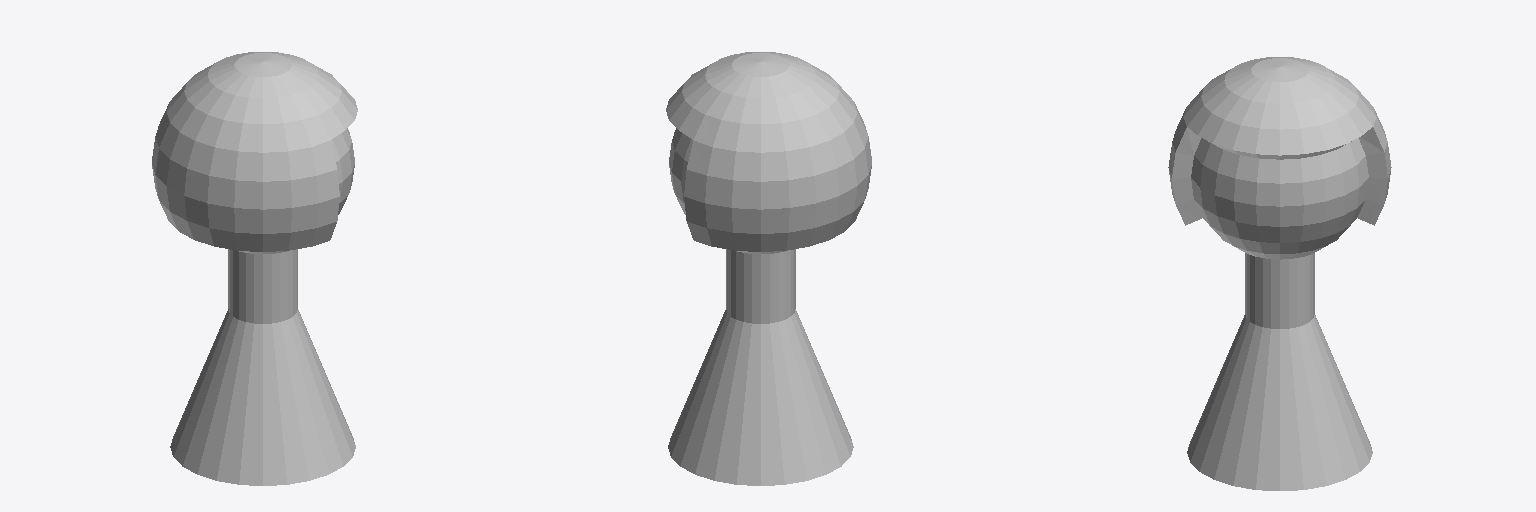
The model's file is mom.obj.
3 renders of one model, left to right at view 1: azimuth 30°, elevation 25°; view 2: azimuth 150°, elevation 25°; view 3: azimuth 270°, elevation 25°, orthographic.
Parts seen in each view (by area): view 1: Mesh; view 2: Mesh; view 3: Mesh.
Part boxes in pixels (x1,y1,x2,y2): Mesh: (152,52,357,485); Mesh: (666,52,871,485); Mesh: (1168,57,1391,490).
Size of the model in its own units: 1.02 by 2.1 by 1.1.